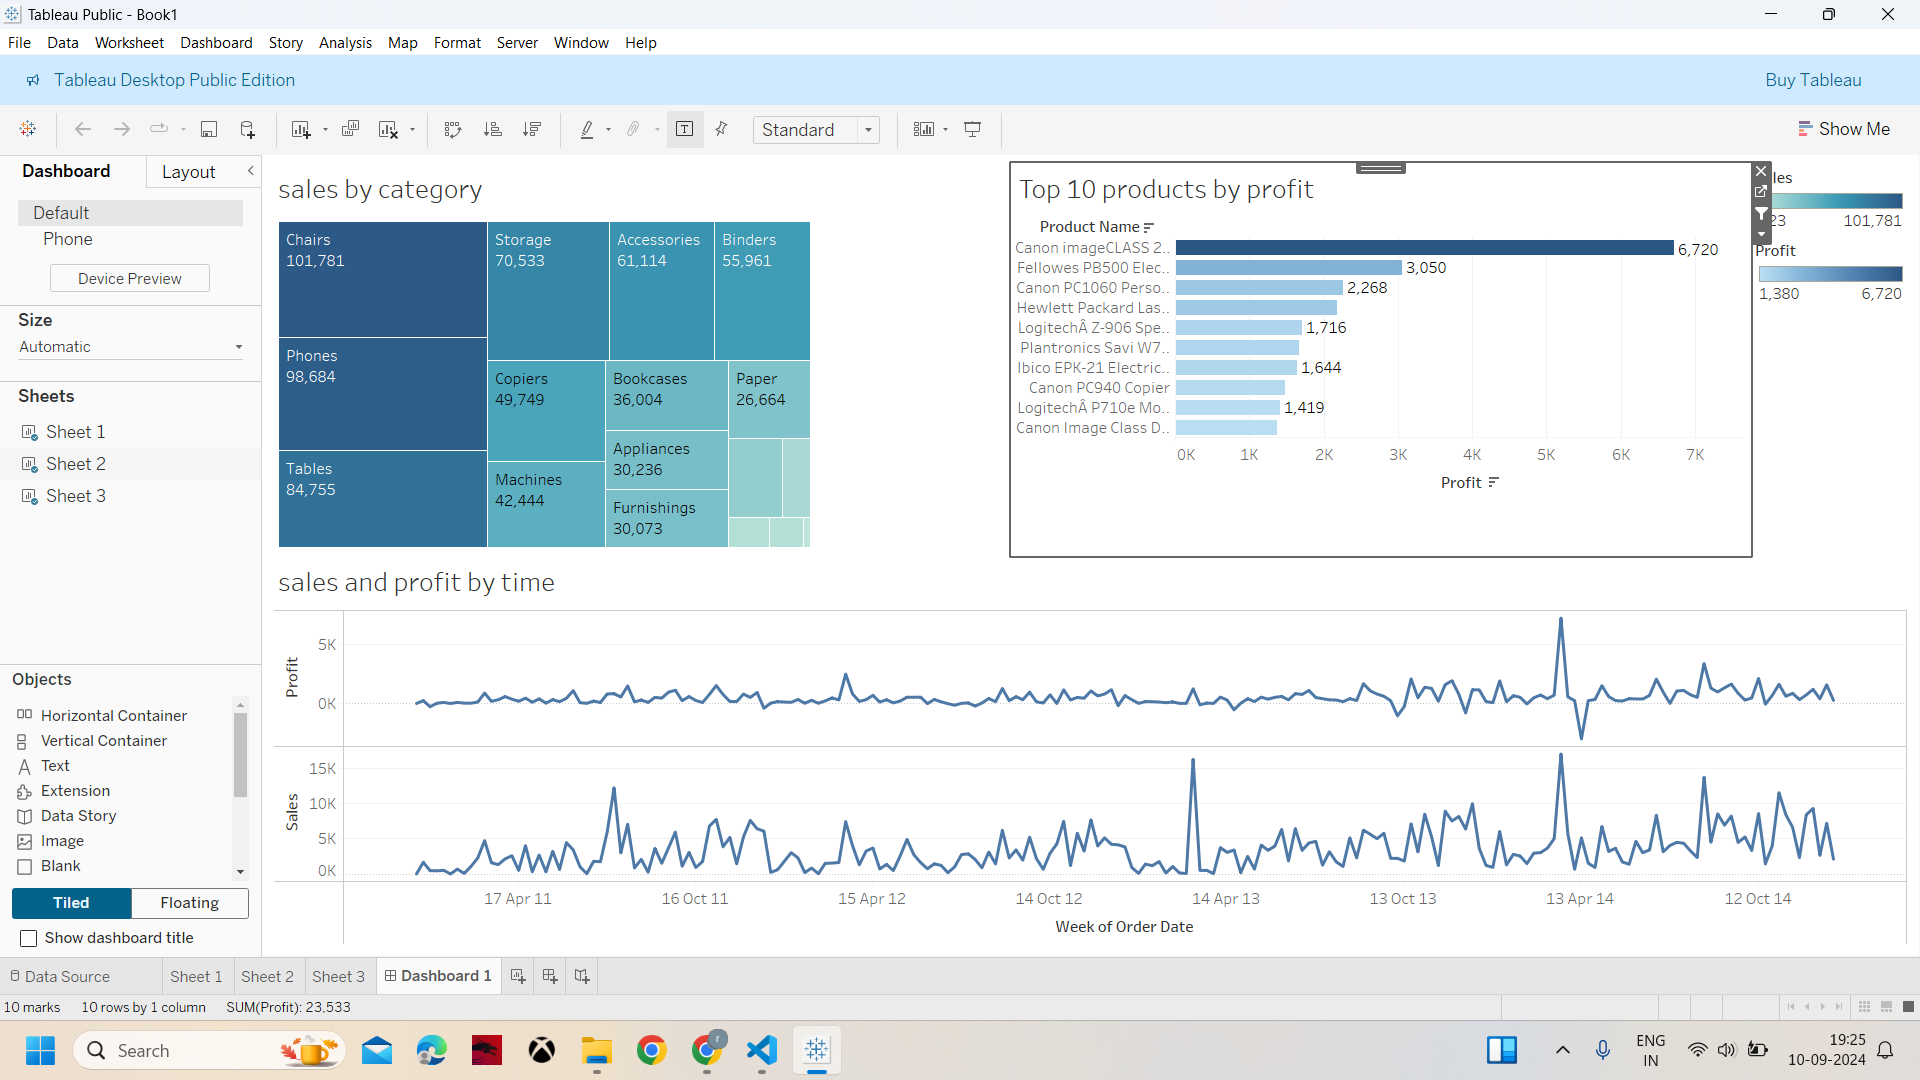

The dashboard page shown, as its layout file describes it:
{"tool":"tableau","page":{"name":"Dashboard 1","canvas":[1000,1000],"units":"permille","ordinal":0},"visuals":[{"type":"worksheet","title":"Sheet 1","mark":"Automatic","box":[4.8,10,446.9,490]},{"type":"worksheet","title":"Sheet 2","mark":"Automatic","rows":["Product Name"],"cols":["Profit"],"box":[451.7,10,446.9,490]},{"type":"legend","title":"Sheet 1","param":"[federated.0zppg8h16knjxe17y4yfp1qyrzc1].[sum:Sales:qk]","box":[898.6,10,96.6,91.1]},{"type":"legend","title":"Sheet 2","param":"[federated.0zppg8h16knjxe17y4yfp1qyrzc1].[sum:Profit:qk]","box":[898.6,101.1,96.6,91.1]},{"type":"worksheet","title":"Sheet 3","mark":"Automatic","rows":["Profit","Sales"],"cols":["Order Date"],"box":[4.8,500,990.3,490]}]}

Visuals, with their boxes on the dashboard's canvas, which has no fixed pixel size, in thousandths of its width and height (x1, y1, x2, y2). These are canvas units, not pixel positions in the 1920x1080 screenshot, which may show the page scaled, cropped or inside an application window:
"Sheet 1" worksheet: 5, 10, 452, 500
"Sheet 2" worksheet: 452, 10, 899, 500
"Sheet 1" legend: 899, 10, 995, 101
"Sheet 2" legend: 899, 101, 995, 192
"Sheet 3" worksheet: 5, 500, 995, 990
